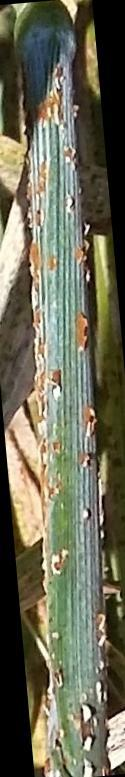Wheat: (20, 69, 109, 695)
